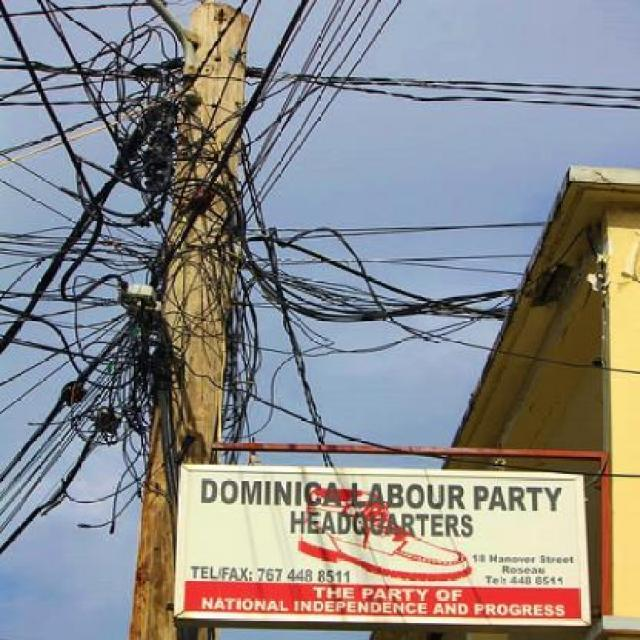garbage: (0, 1, 521, 464)
